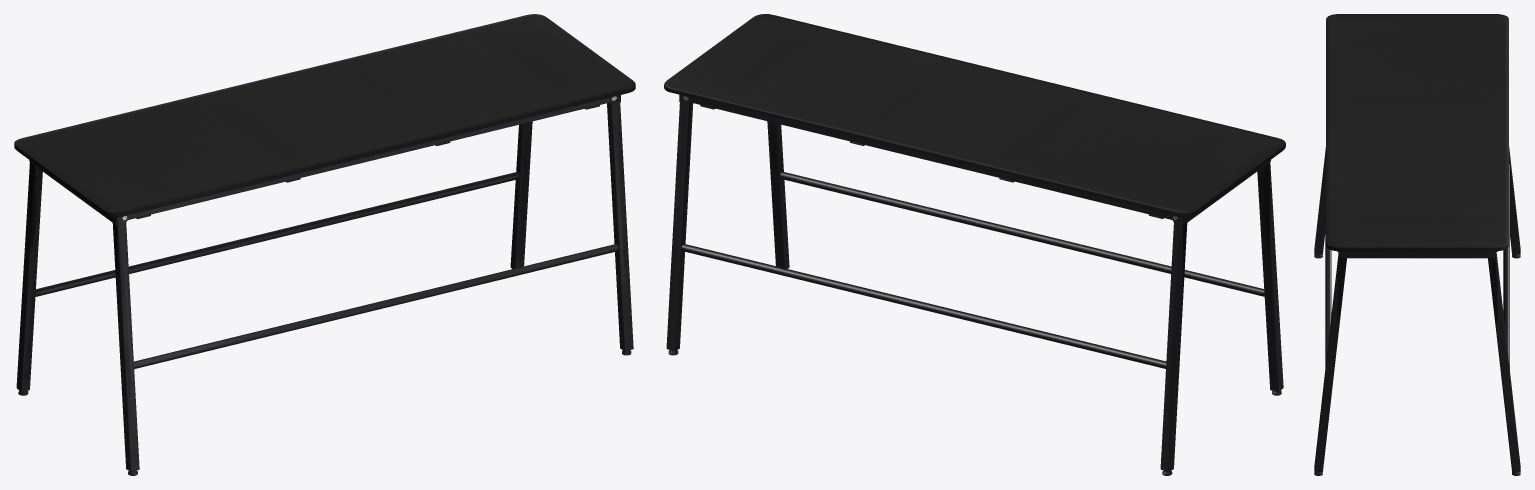
The model's file is format_bank_black_laquered_metal.glb.
3 views of the same model, side by side, from view 1: azimuth 30°, elevation 25°; view 2: azimuth 150°, elevation 25°; view 3: azimuth 270°, elevation 25° (orthographic). The views are drawn at different scales.
Visible parts, largest first — view 1: format_bank_bar-black01, format_bank_bar-black; view 2: format_bank_bar-black01, format_bank_bar-black; view 3: format_bank_bar-black01, format_bank_bar-black.
Boxes of the visible parts, x1,y1,x2,y2 form: format_bank_bar-black01: (14, 14, 635, 217); format_bank_bar-black: (16, 95, 633, 475); format_bank_bar-black01: (664, 14, 1285, 217); format_bank_bar-black: (666, 94, 1283, 475); format_bank_bar-black01: (1326, 14, 1508, 251); format_bank_bar-black: (1314, 146, 1520, 475).
Size of the model in its own units: 1.6 by 0.75 by 0.5982.
Materials: 1 (1 with a texture image).
